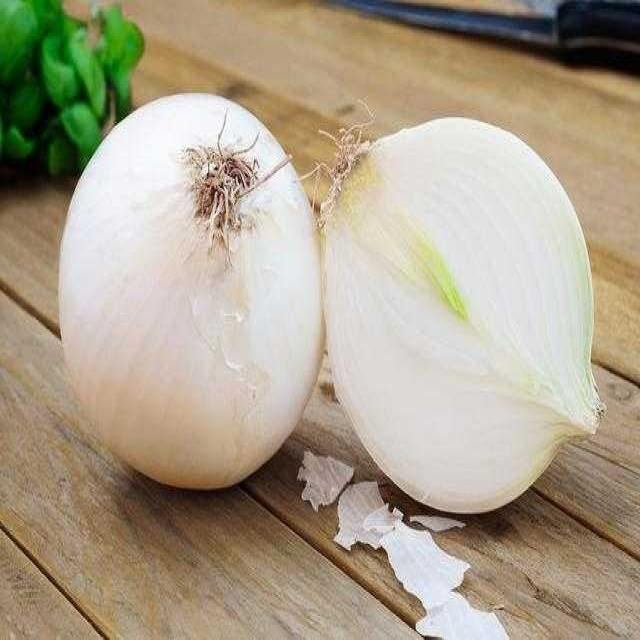onion: (312, 120, 607, 524), (59, 95, 326, 492)
